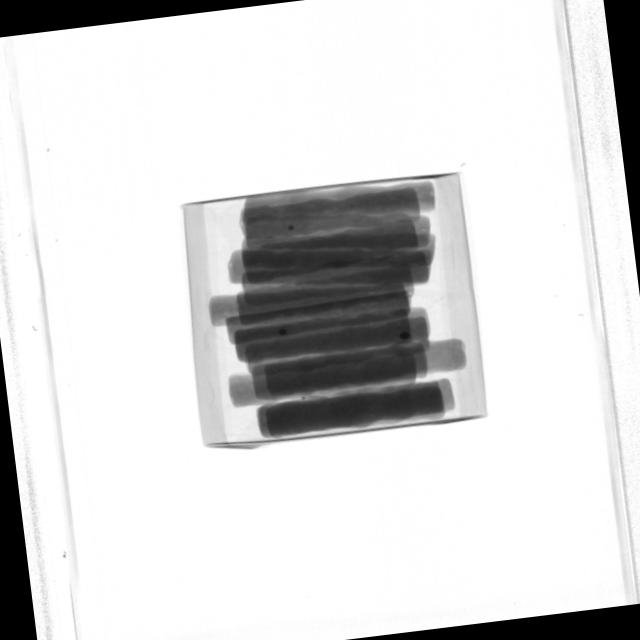ym: (398, 331, 412, 341), (279, 328, 287, 335), (288, 225, 294, 231), (300, 396, 306, 401)
